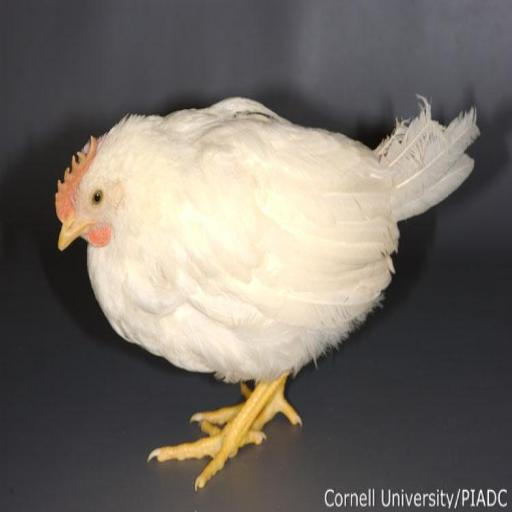healthy: (52, 138, 124, 253)
